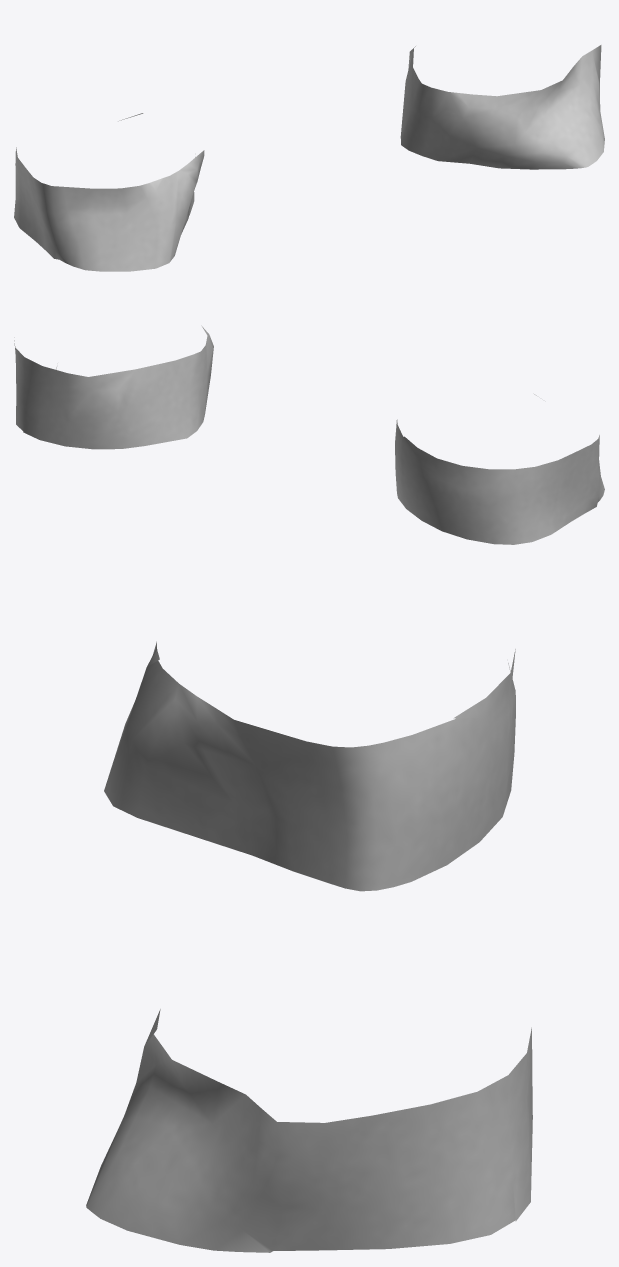
Rendered from COP_Under.glb.
3 renders of one model, top to bottom at view 1: azimuth 30°, elevation 25°; view 2: azimuth 150°, elevation 25°; view 3: azimuth 270°, elevation 25°, orthographic. The views are drawn at different scales.
Visible parts, largest first — view 1: COP_Under1; view 2: COP_Under1; view 3: COP_Under1.
Boxes of the visible parts, left/top/right/bottom form: COP_Under1: left=14, top=45, right=604, bottom=271; COP_Under1: left=14, top=325, right=604, bottom=544; COP_Under1: left=86, top=641, right=532, bottom=1252.
Size of the model in its own units: 0.82 by 0.1079 by 0.2818.
Materials: 1 (1 with a texture image).
